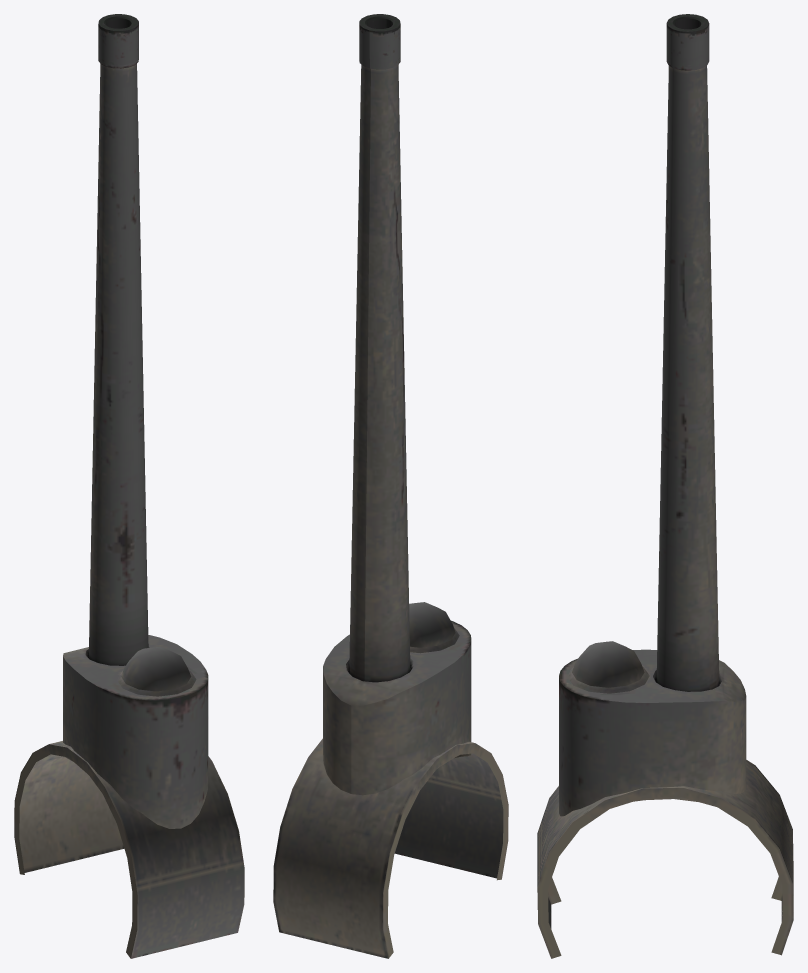
The model's file is Gun_01.glb.
The picture shows the model from 3 angles, left to right: view 1: azimuth 30°, elevation 25°; view 2: azimuth 150°, elevation 25°; view 3: azimuth 270°, elevation 25°; orthographic projection. The views are drawn at different scales.
Parts seen in each view (by area): view 1: set_0_group_0; view 2: set_0_group_0; view 3: set_0_group_0.
Boxes of the visible parts, <box> form: set_0_group_0: <box>14,14,244,958</box>; set_0_group_0: <box>273,14,508,958</box>; set_0_group_0: <box>537,14,793,958</box>.
Size of the model in its own units: 0.1782 by 1.39 by 0.3553.
Materials: 1 (1 with a texture image).
